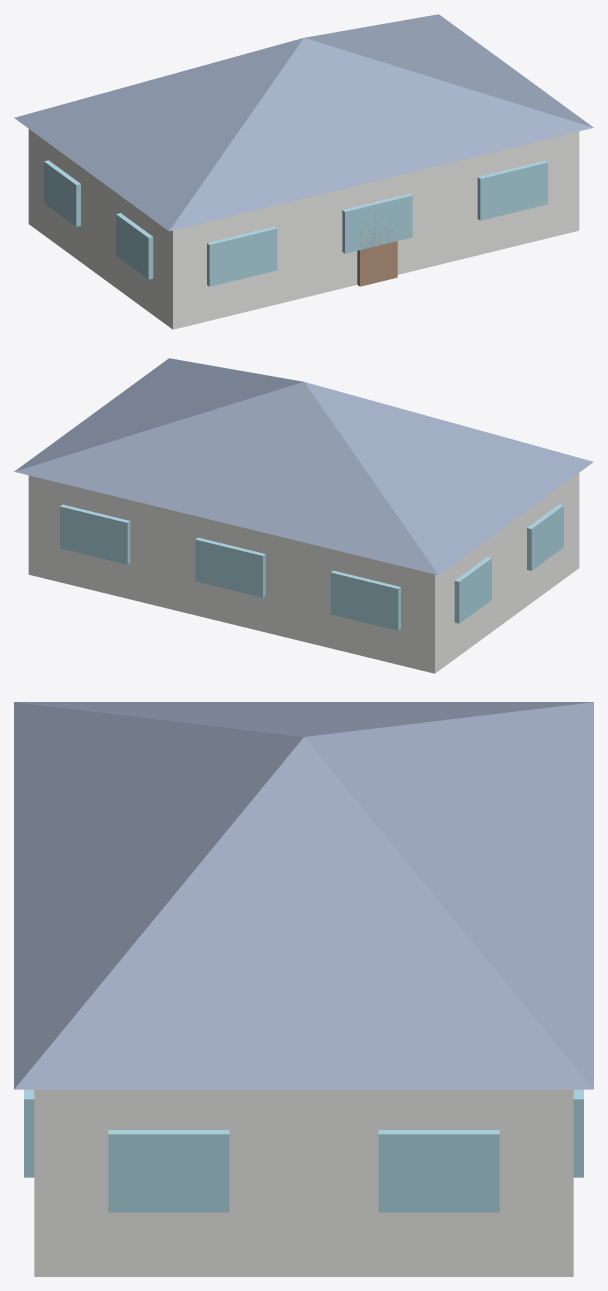
Rendered from bungalow.glb.
3 renders of one model, top to bottom at view 1: azimuth 30°, elevation 25°; view 2: azimuth 150°, elevation 25°; view 3: azimuth 270°, elevation 25°, orthographic. The views are drawn at different scales.
Visible parts, largest first — view 1: bungalow_roof_slate, bungalow_offwhite, bungalow_window, bungalow_door; view 2: bungalow_roof_slate, bungalow_offwhite, bungalow_window; view 3: bungalow_roof_slate, bungalow_offwhite, bungalow_window.
Boxes of the visible parts, x1,y1,x2,y2 form: bungalow_roof_slate: [14, 14, 593, 231]; bungalow_offwhite: [28, 129, 579, 329]; bungalow_window: [44, 160, 547, 286]; bungalow_door: [357, 212, 397, 286]; bungalow_roof_slate: [14, 358, 593, 575]; bungalow_offwhite: [28, 473, 579, 673]; bungalow_window: [60, 504, 563, 630]; bungalow_roof_slate: [14, 702, 593, 1089]; bungalow_offwhite: [34, 1089, 573, 1276]; bungalow_window: [24, 1089, 583, 1212].
Bounding box in the file's own units: 13.6 × 5.8 × 8.6.
